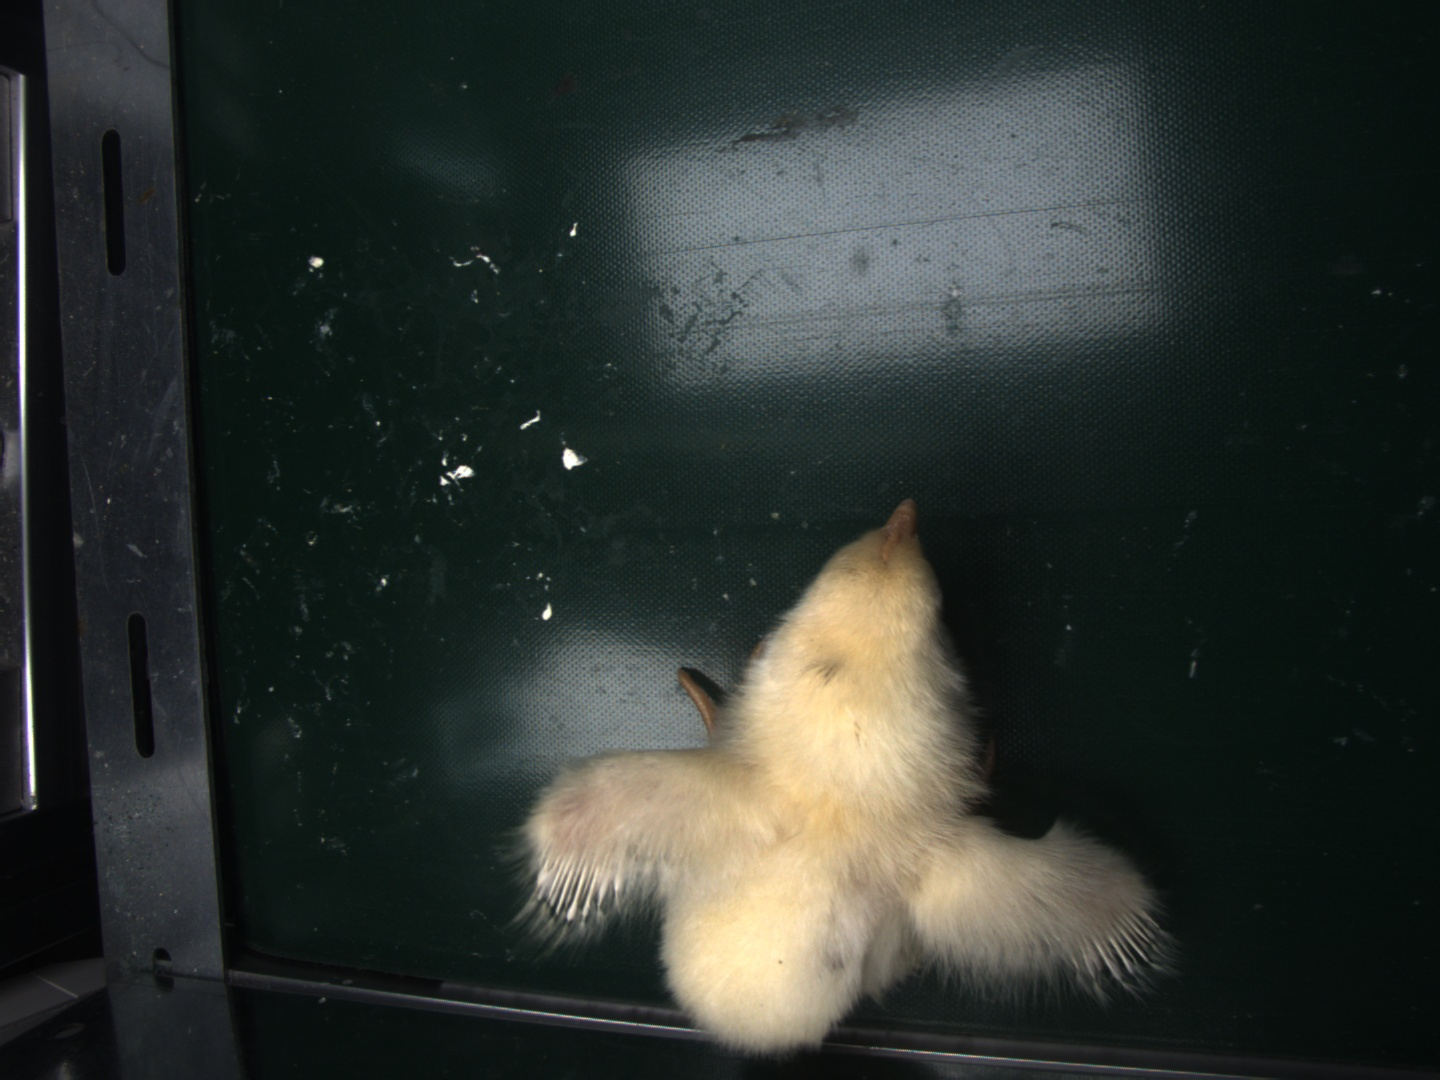male: (1069, 905, 1162, 978), (532, 852, 615, 925)
